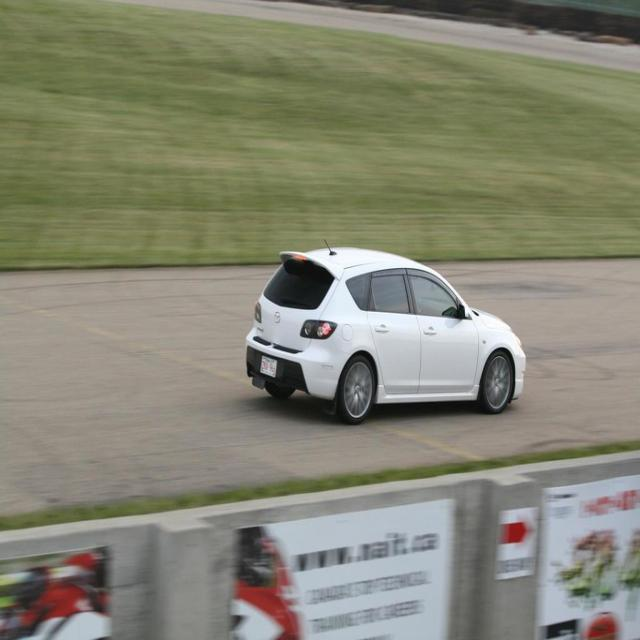car: (247, 242, 526, 430)
